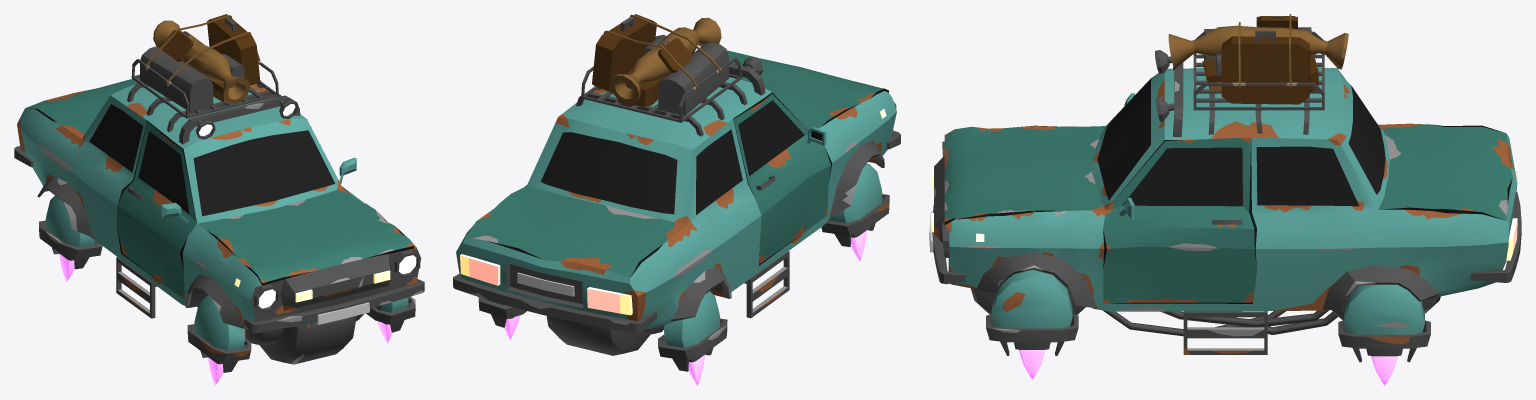
File: zaz-968-reference.glb
3 renders of one model, left to right at view 1: azimuth 30°, elevation 25°; view 2: azimuth 150°, elevation 25°; view 3: azimuth 270°, elevation 25°, orthographic. The views are drawn at different scales.
Visible parts, largest first — view 1: Car_15, Nozzle_FR_13, Nozzle_BR_9, Stairs_14, Nozzle_FL_11; view 2: Car_15, Nozzle_BR_9, Nozzle_FR_13, Stairs_14, Nozzle_BL_7; view 3: Car_15, Nozzle_FL_11, Nozzle_BL_7, Stairs_14, Circle.003_3, Circle.001_1, Circle.002_2, Fire_BL_6.
Boxes of the visible parts, x1,y1,x2,y2 form: Car_15: (14,14,424,364); Nozzle_FR_13: (187,296,251,372); Nozzle_BR_9: (39,195,102,269); Stairs_14: (116,257,156,318); Nozzle_FL_11: (366,296,415,332); Car_15: (453,14,900,355); Nozzle_BR_9: (658,291,727,371); Nozzle_FR_13: (821,163,889,246); Stairs_14: (744,251,789,318); Nozzle_BL_7: (478,297,526,327); Car_15: (929,14,1521,320); Nozzle_FL_11: (986,270,1078,355); Nozzle_BL_7: (1338,284,1430,362); Stairs_14: (1183,311,1267,354); Circle.003_3: (1161,310,1329,327); Circle.001_1: (1103,310,1285,336); Circle.002_2: (1235,312,1338,334); Fire_BL_6: (1371,356,1397,385).
Size of the model in its own units: 1.78 by 2.29 by 3.76.
